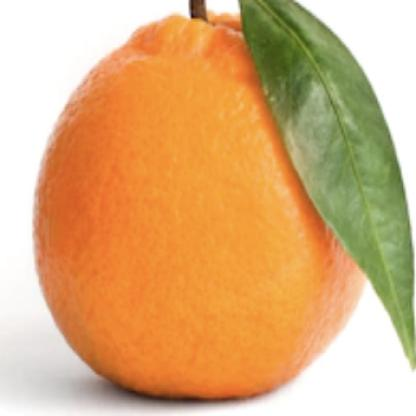fresh: (33, 13, 380, 406)
